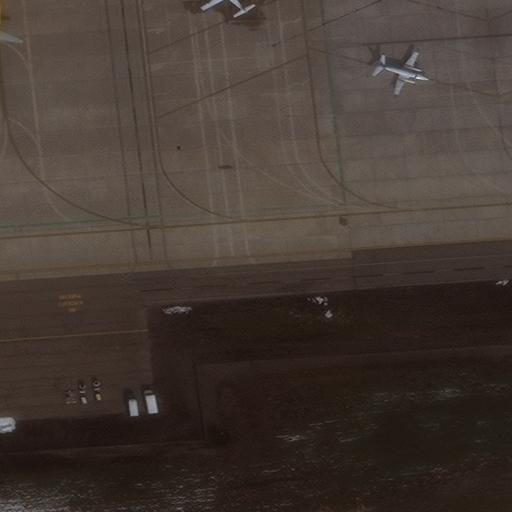Medium Civil Transport: (200, 0, 249, 13)
Small Civil Transport: (375, 53, 429, 95)
